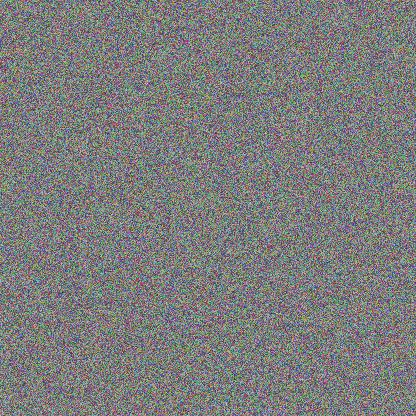empty: (237, 246, 340, 351)
occupied: (129, 216, 218, 333), (100, 102, 144, 161)
